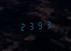nine: (34, 20, 41, 30)
three: (26, 20, 33, 31), (42, 19, 49, 29)
two: (18, 21, 25, 31)
